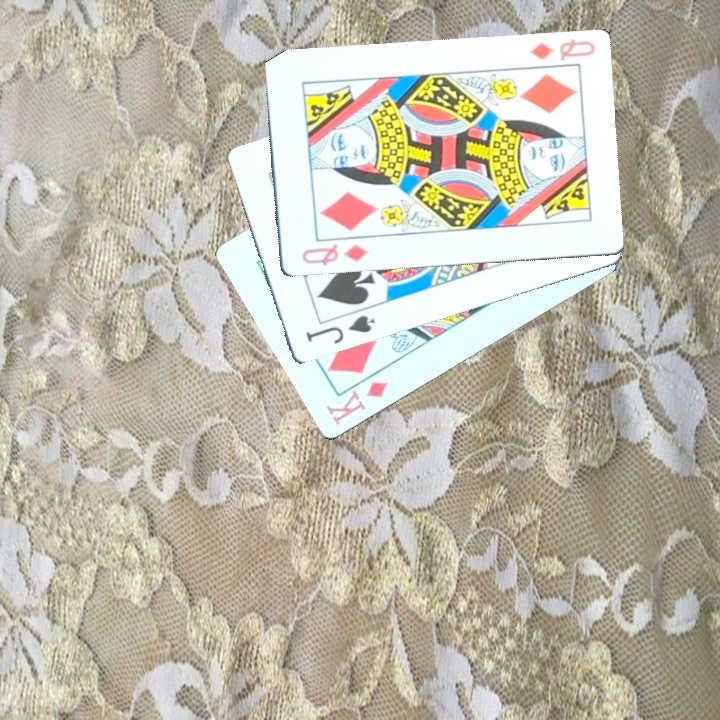Js: (301, 302, 377, 346)
Kd: (322, 361, 391, 428)
Qd: (298, 230, 370, 268), (526, 35, 598, 63)
